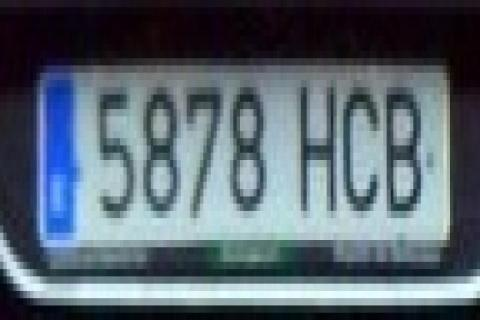LicensePlate: (17, 37, 454, 279)
